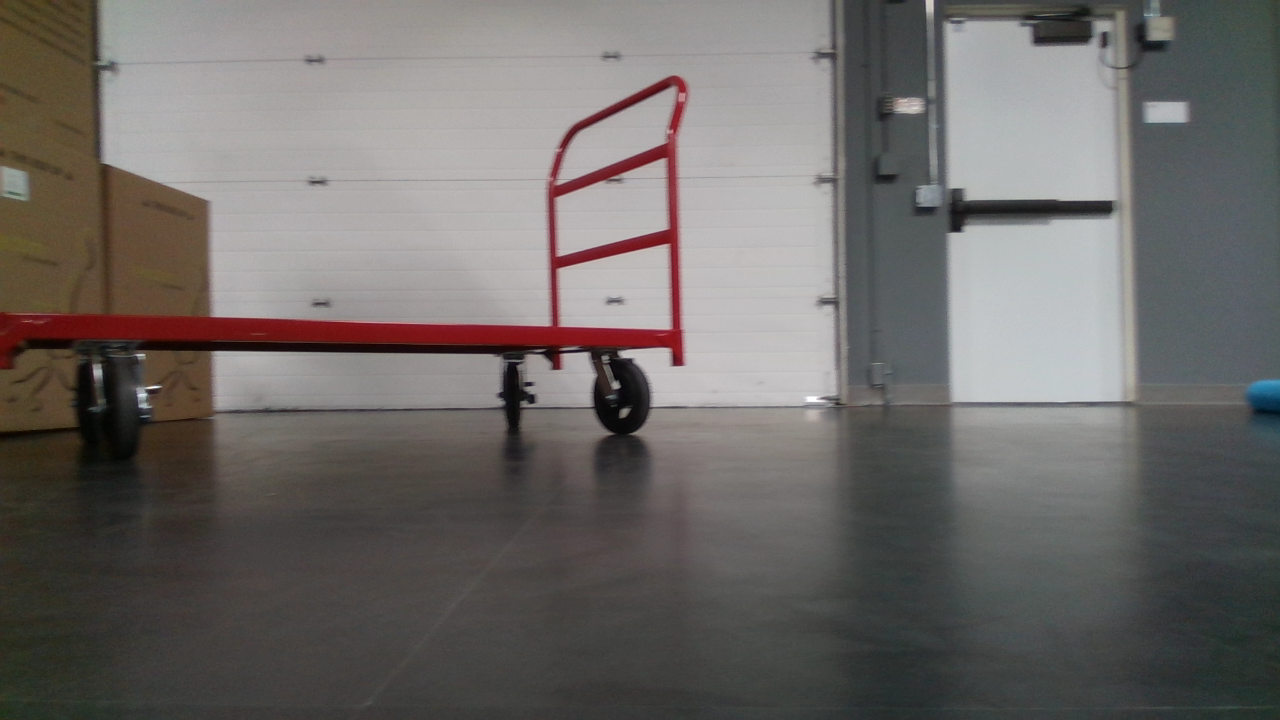Dolly: (0, 66, 701, 467)
Wheel: (71, 341, 166, 473), (593, 342, 656, 439), (491, 350, 537, 441)
